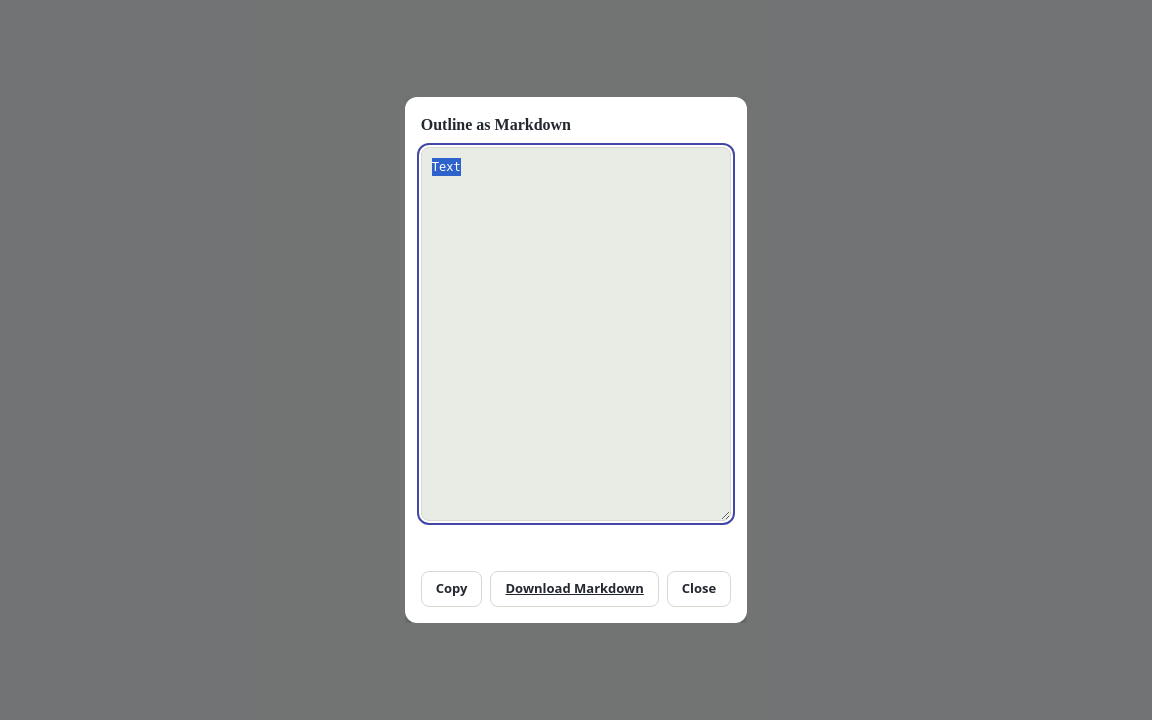
Scenario: keeps manual copy available when clipboard permission is unavailable
What coordinates should you click on to do the following:
click the button "Copy"
I would click on:
 (452, 589)
Its box is [421,571,482,607].
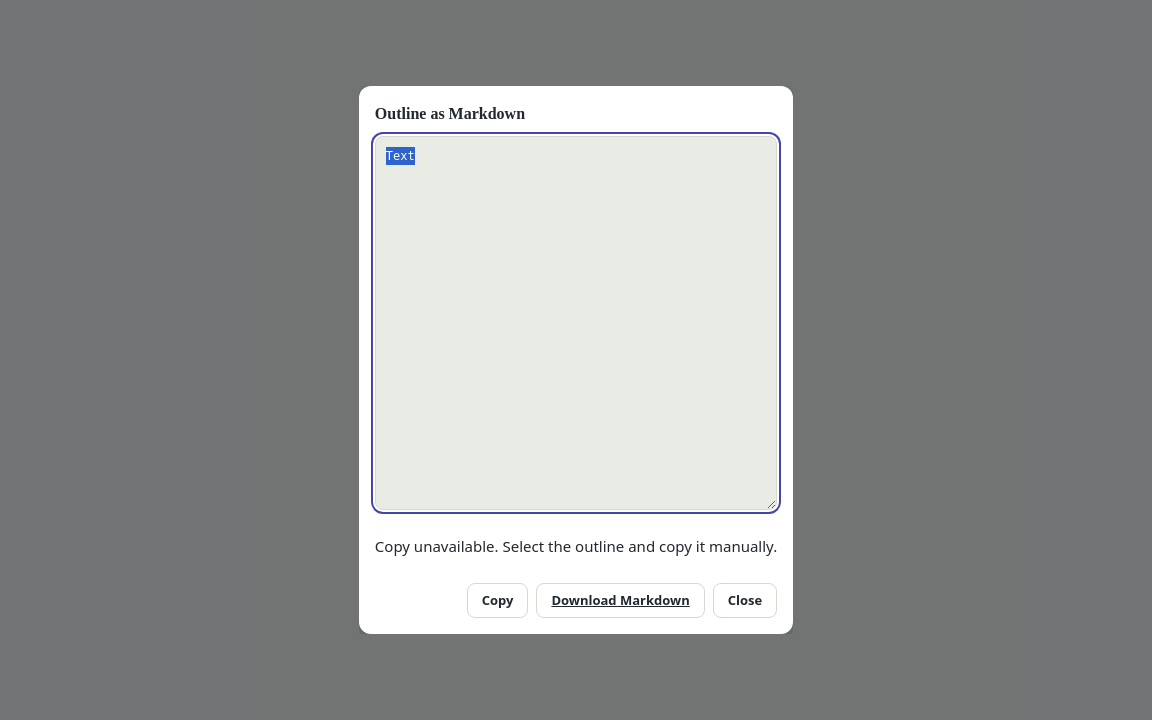
expect the text box named "Markdown outline" holds "Text": met, box [375,136,777,510]
expect the text "Copy unavailable. Select the outline and copy it manually." is shown: met, box [375,535,777,558]
